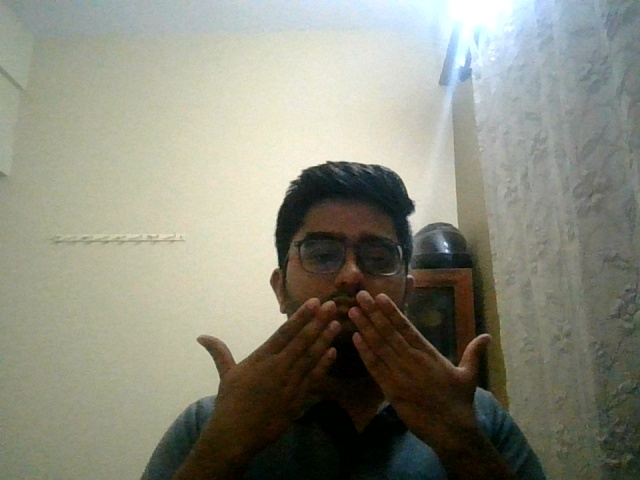Thank You: (188, 284, 517, 461)
